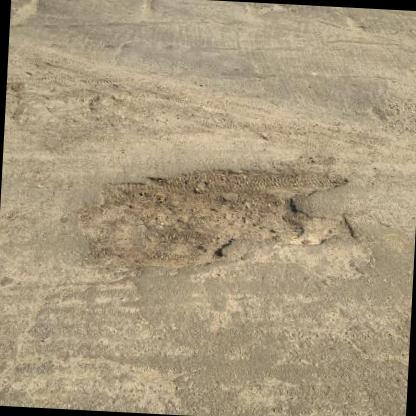pothole: (71, 151, 360, 285)
